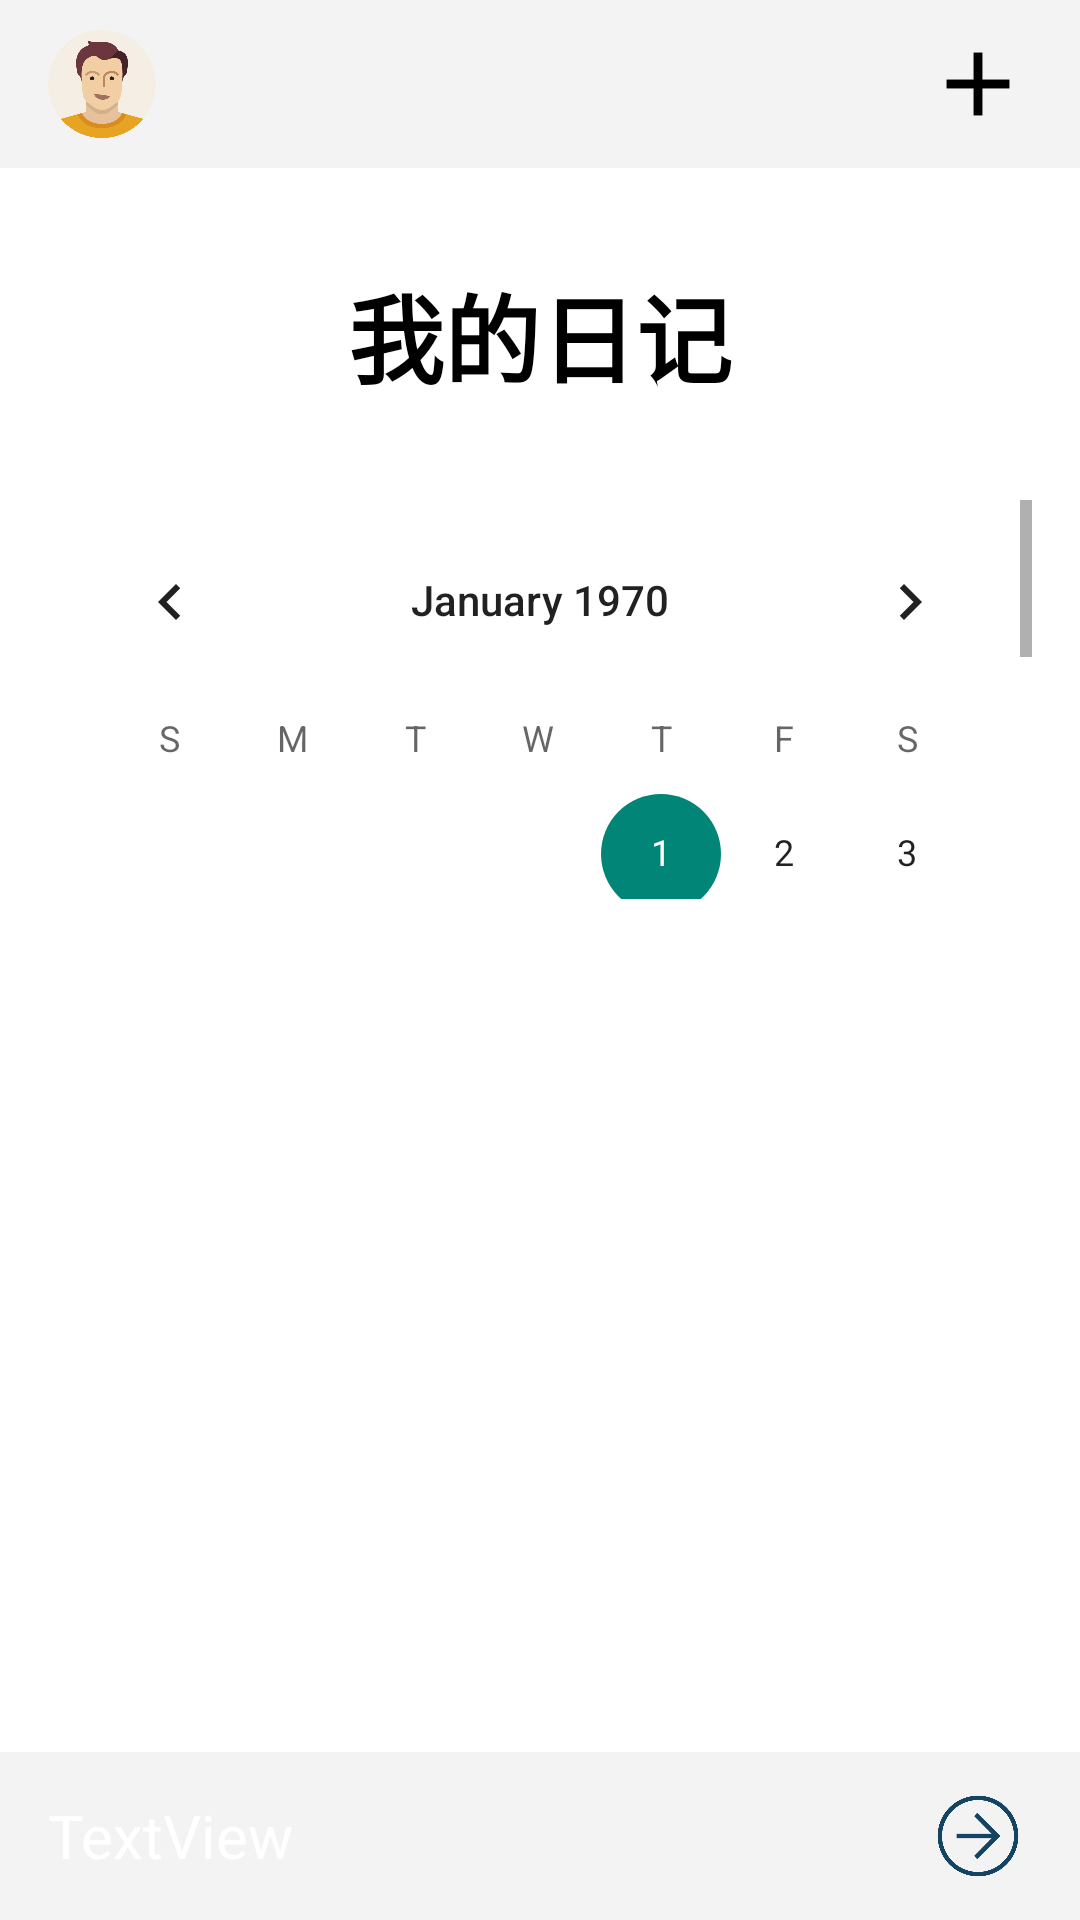

Icons on this 1080 × 1920 Android screen, each with its box as [x1=x1, y1=y1, x2=x2, y2=y2]:
person user: [x1=61, y1=41, x2=143, y2=138]
